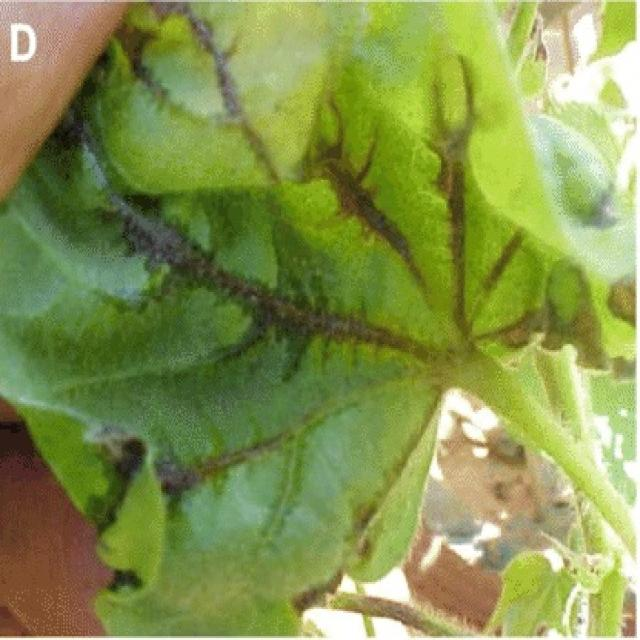Bacterial Blight: (116, 62, 458, 412)
